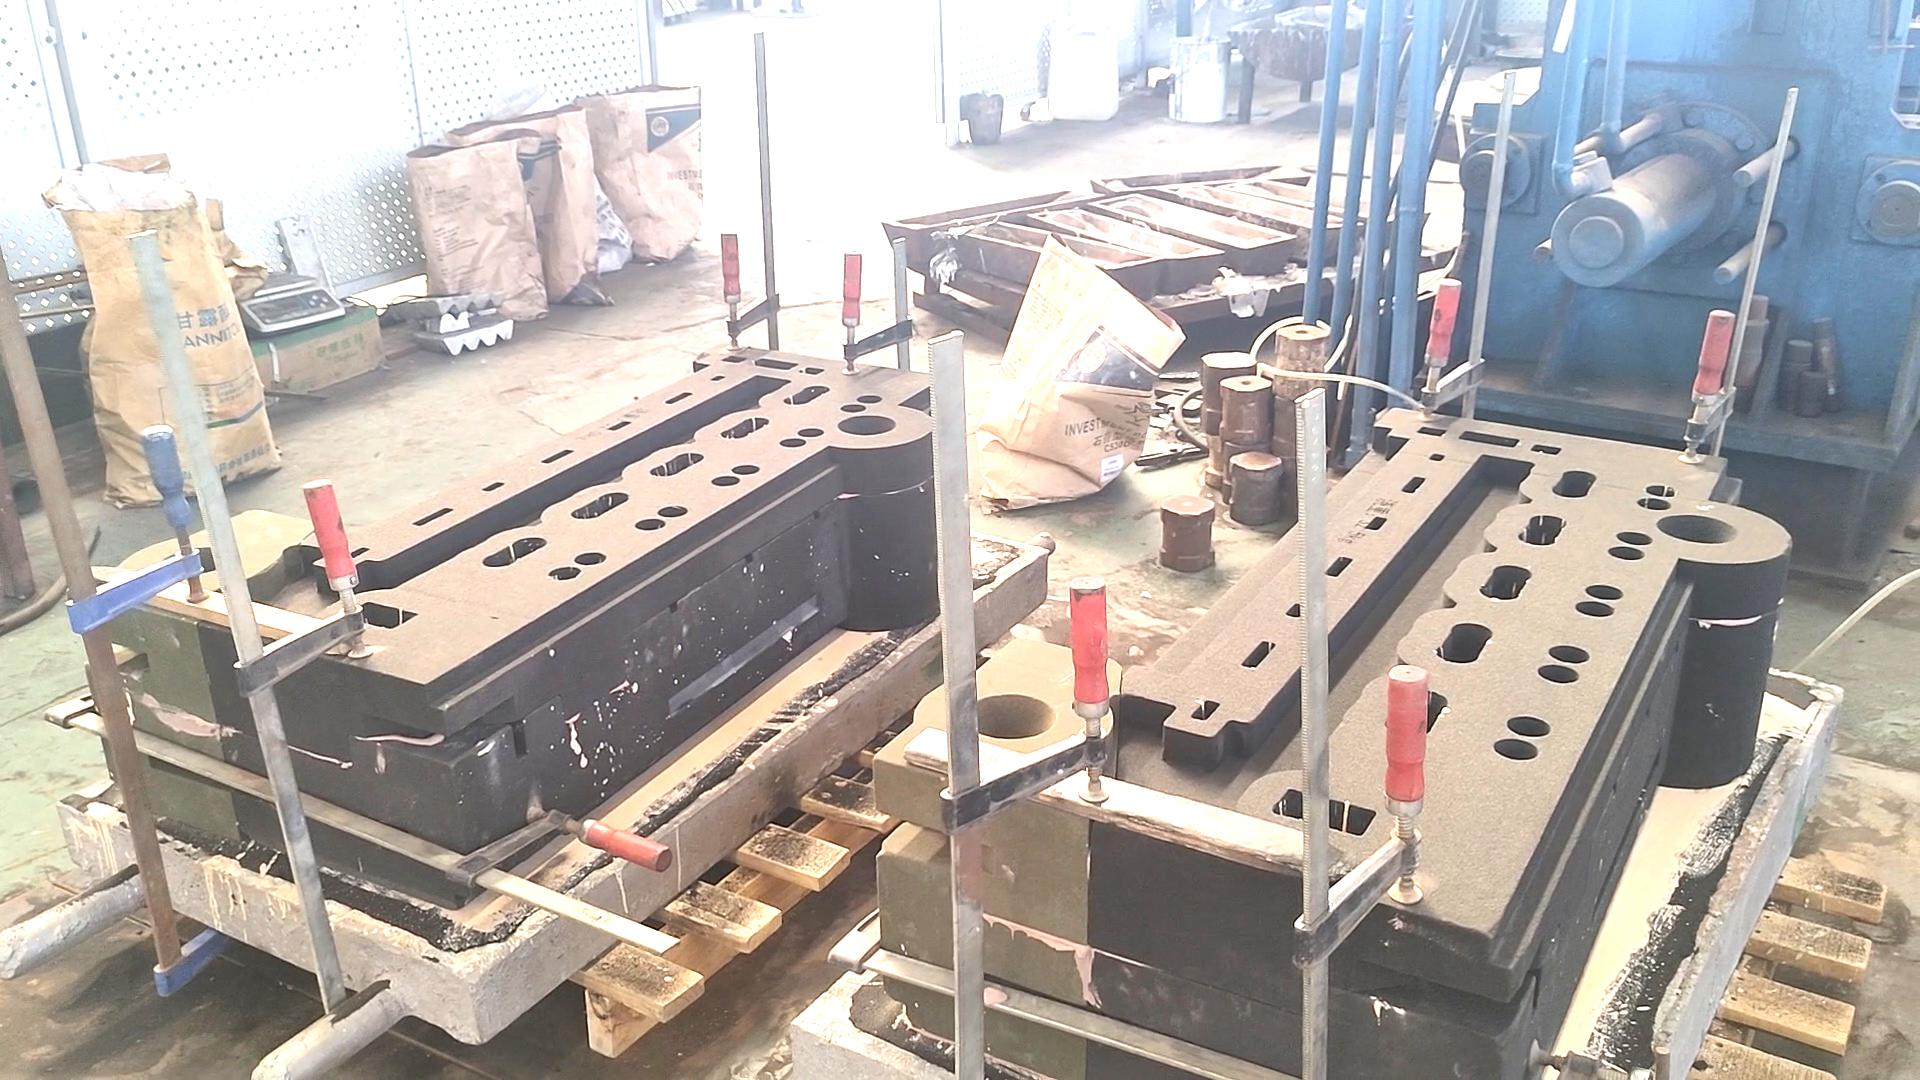pouring hole: (969, 694, 1056, 738), (1656, 514, 1737, 542), (156, 545, 219, 578), (837, 414, 897, 436)
